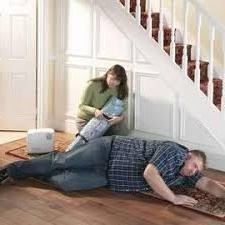fall: (1, 133, 223, 207)
not_fallen: (57, 61, 138, 154)
